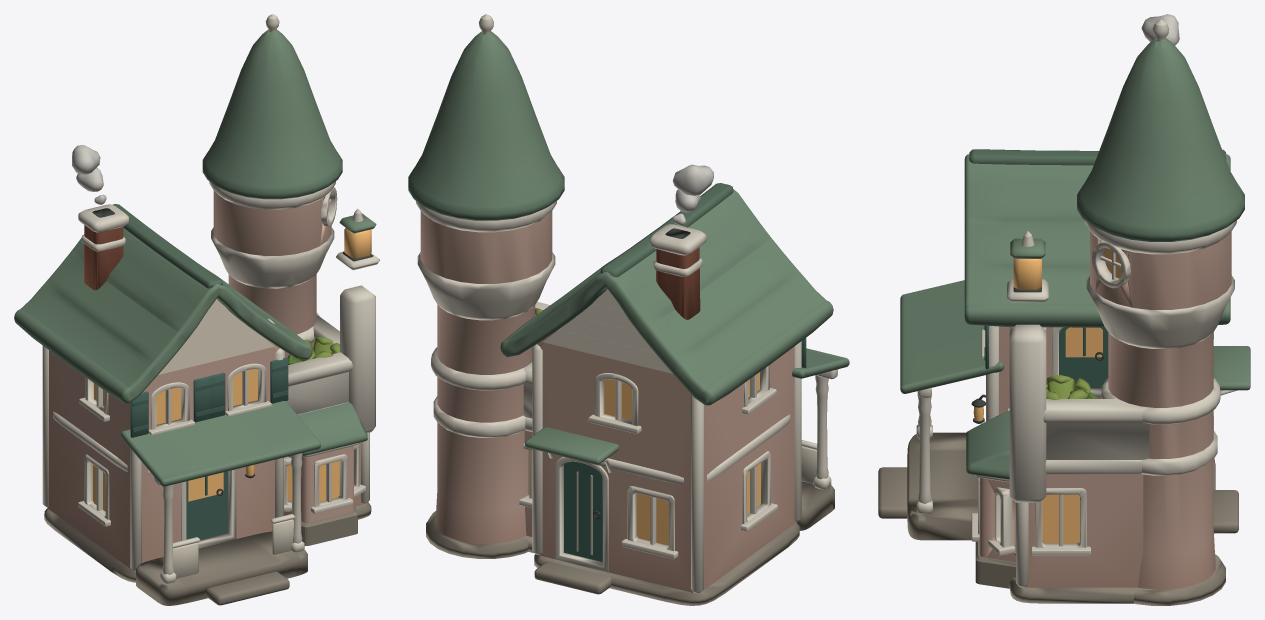
Rendered from BLD_Family_House_A_T3.fbx.
3 views of the same model, side by side, from view 1: azimuth 30°, elevation 25°; view 2: azimuth 150°, elevation 25°; view 3: azimuth 270°, elevation 25° (orthographic). The views are drawn at different scales.
Parts seen in each view (by area): view 1: BLD_Family_House_A_T3_Body_LOD0, BLD_Family_House_A_T3_Puff3_LOD0; view 2: BLD_Family_House_A_T3_Body_LOD0, BLD_Family_House_A_T3_Puff3_LOD0; view 3: BLD_Family_House_A_T3_Body_LOD0, BLD_Family_House_A_T3_Puff3_LOD0.
Boxes of the visible parts, <box> form: BLD_Family_House_A_T3_Body_LOD0: <box>14,14,379,605</box>; BLD_Family_House_A_T3_Puff3_LOD0: <box>72,145,100,174</box>; BLD_Family_House_A_T3_Body_LOD0: <box>408,14,849,605</box>; BLD_Family_House_A_T3_Puff3_LOD0: <box>673,164,713,195</box>; BLD_Family_House_A_T3_Body_LOD0: <box>878,19,1250,605</box>; BLD_Family_House_A_T3_Puff3_LOD0: <box>1141,14,1179,45</box>.
Size of what is drawn, in the model's own units: 4.89 by 7.42 by 4.48.
